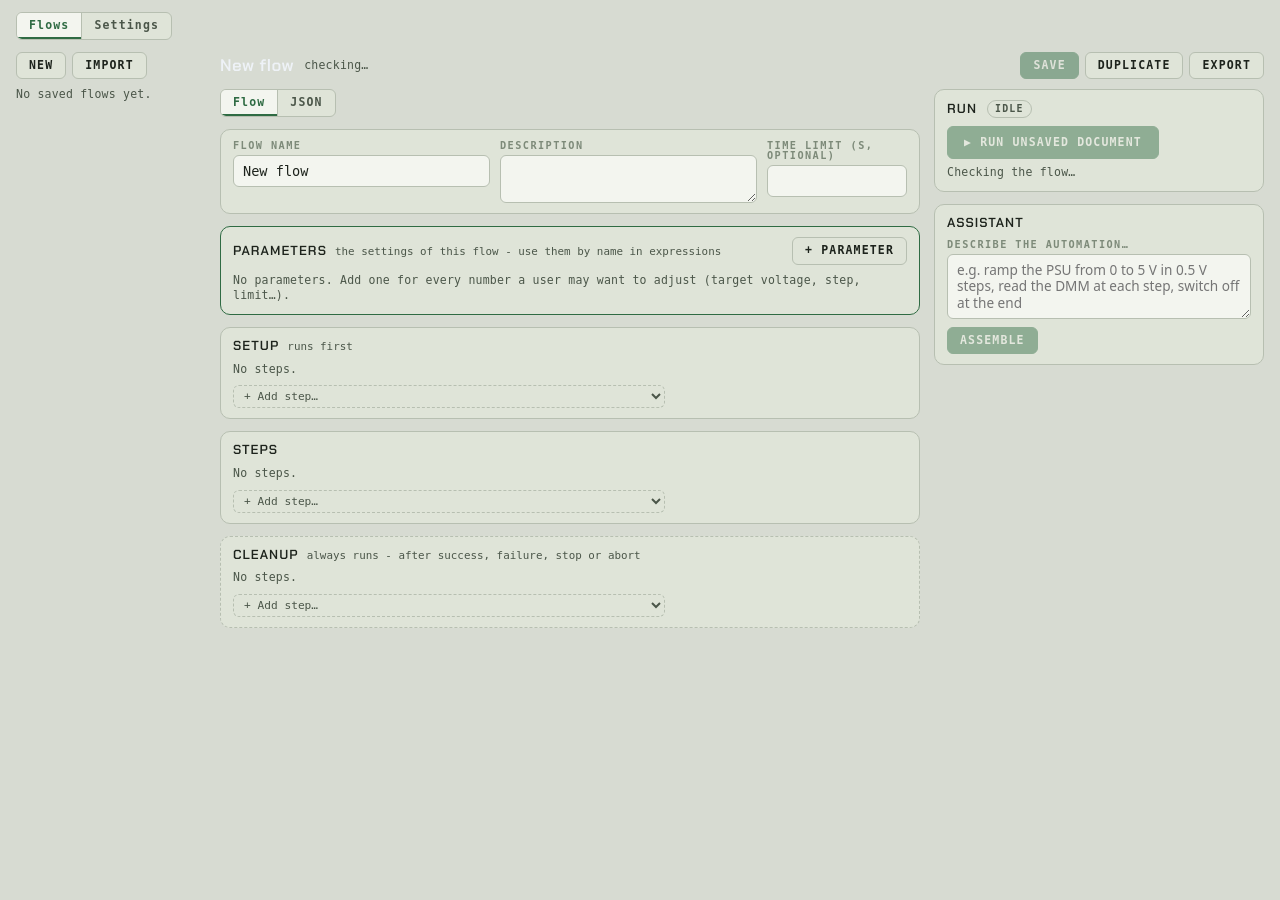
run panel › runs an unsaved document as {flow}
This screenshot has width=1280, height=900.
Select "Wait - Pause for some seconds" in the dropdown named "Add step at the start of steps". click: x=449, y=501
box: [233,490,665,512]
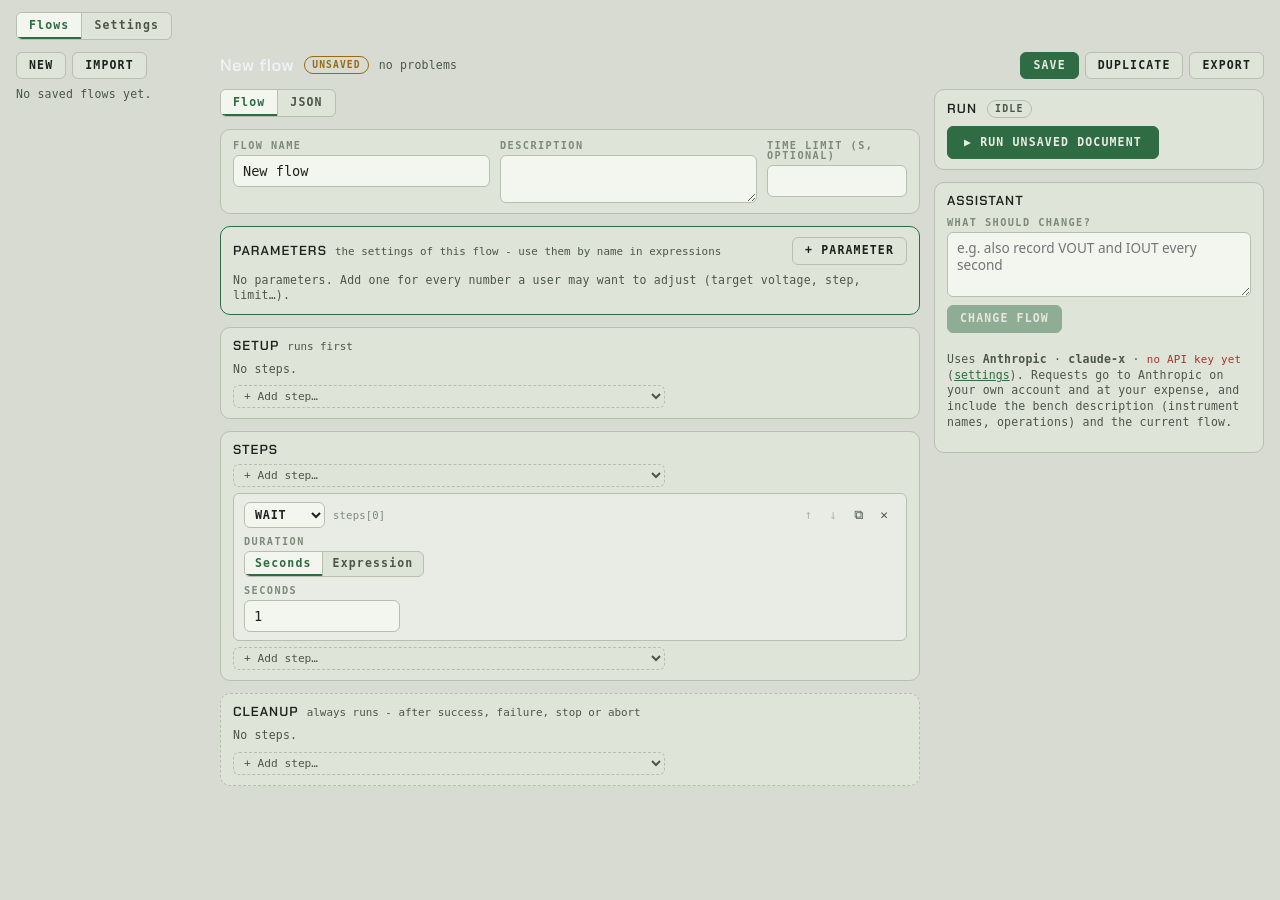
Expected: the button "▶ Run unsaved document" is enabled
Click the button "▶ Run unsaved document". click: x=1053, y=143
box: [947,126,1159,160]
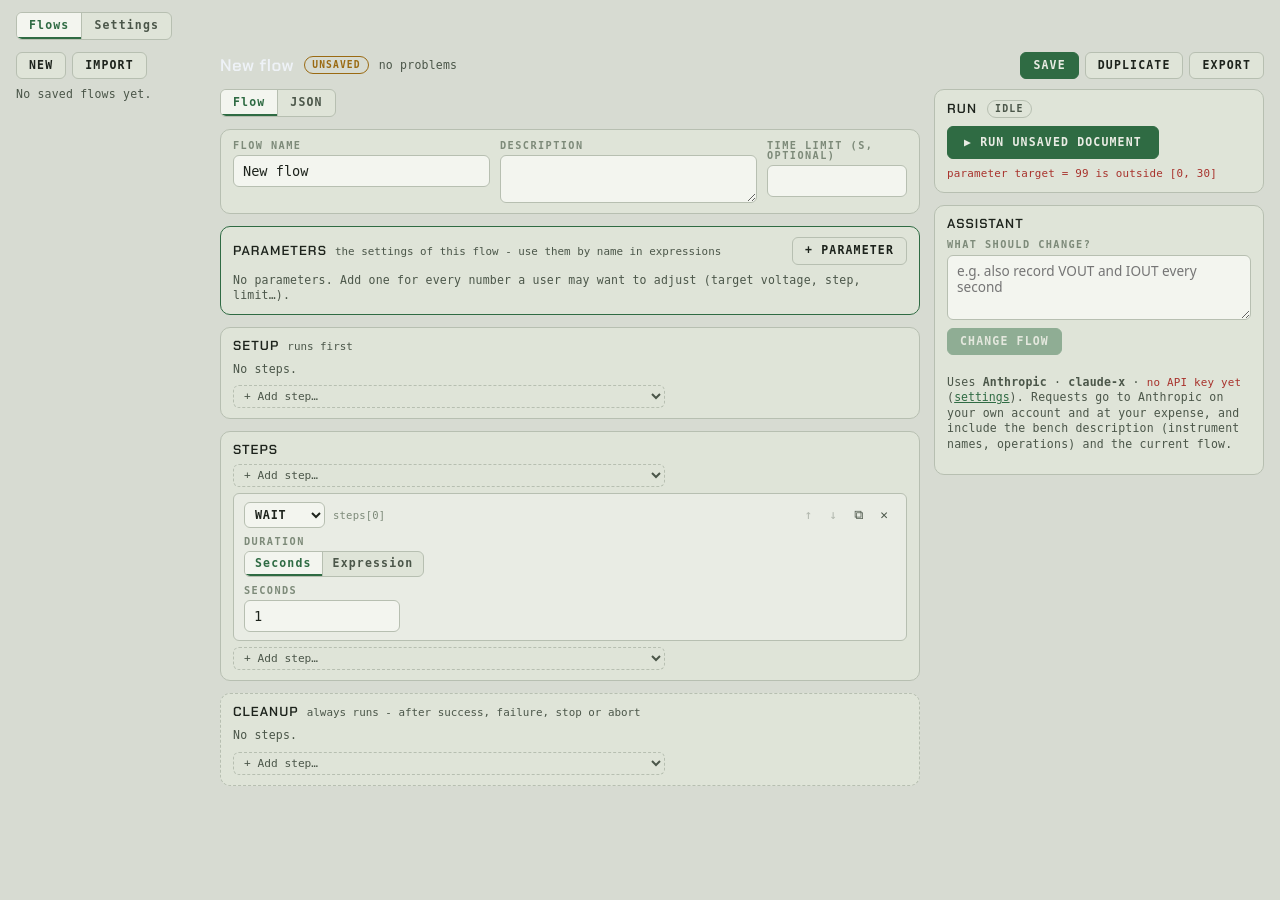
Expected: the text "parameter target = 99 is outside [0, 30]" is shown, [947,168,1251,182]
